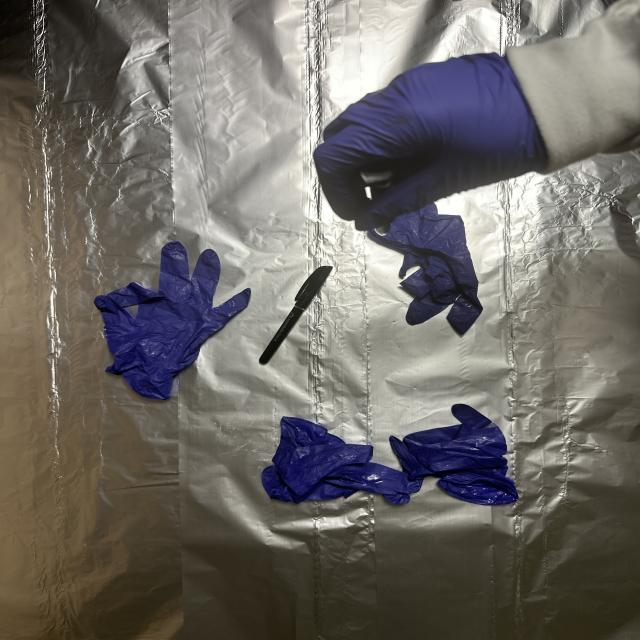gloves_contaminated: (314, 53, 547, 230)
